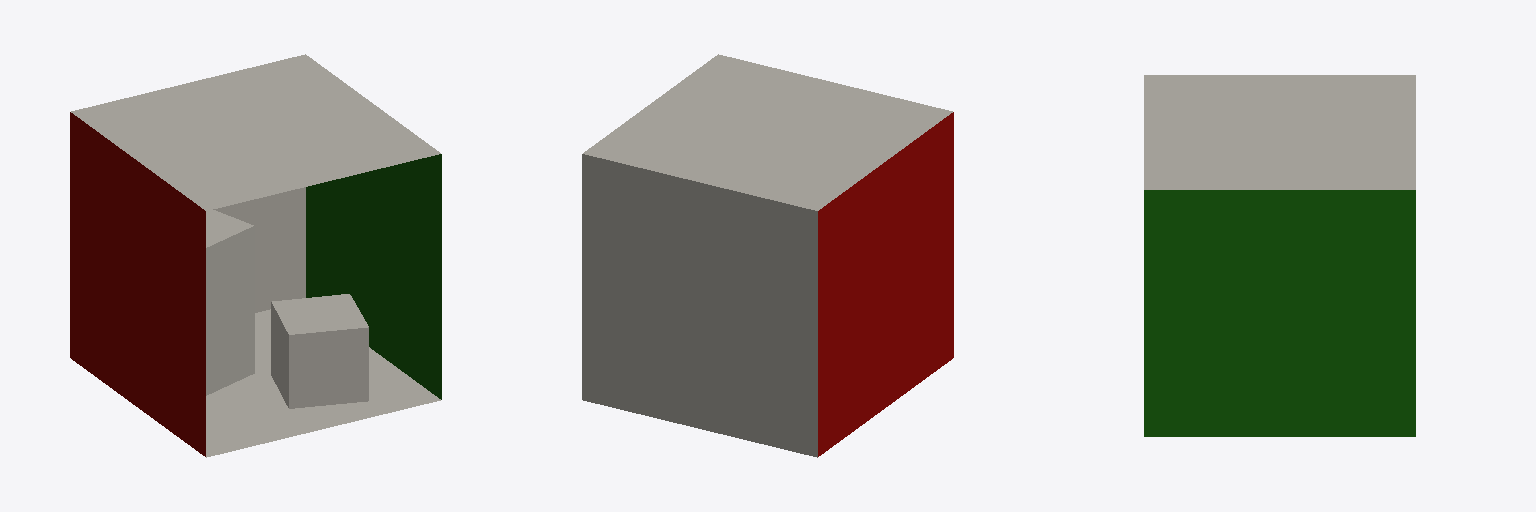
The model's file is cornellbox1.obj.
3 renders of one model, left to right at view 1: azimuth 30°, elevation 25°; view 2: azimuth 150°, elevation 25°; view 3: azimuth 270°, elevation 25°, orthographic.
Visible parts, largest first — view 1: leftwall, ceiling, rightwall, floor, shortbox, tallbox, backwall; view 2: backwall, leftwall, ceiling; view 3: rightwall, ceiling.
Part boxes in pixels (left/top/right/bottom): leftwall: left=70, top=112, right=205, bottom=456; ceiling: left=71, top=54, right=440, bottom=210; rightwall: left=306, top=154, right=441, bottom=399; floor: left=206, top=309, right=440, bottom=457; shortbox: left=271, top=294, right=368, bottom=408; tallbox: left=206, top=210, right=254, bottom=395; backwall: left=213, top=187, right=305, bottom=312; backwall: left=582, top=154, right=817, bottom=457; leftwall: left=818, top=112, right=953, bottom=456; ceiling: left=583, top=54, right=952, bottom=210; rightwall: left=1144, top=190, right=1415, bottom=436; ceiling: left=1144, top=75, right=1415, bottom=189.
Bounding box in the file's own units: 2 × 2 × 2.